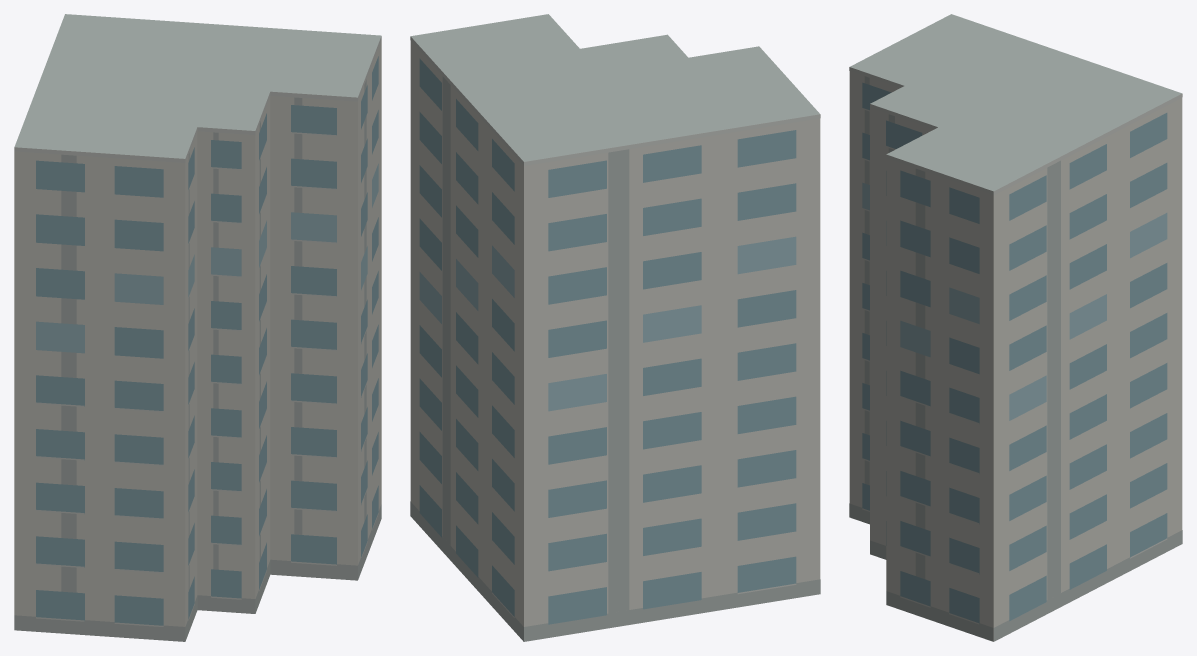
File: residential-7bc94868-e961-4bd1-a678-60fde20e6c0e.glb
The picture shows the model from 3 angles, left to right: view 1: azimuth 30°, elevation 25°; view 2: azimuth 150°, elevation 25°; view 3: azimuth 270°, elevation 25°; orthographic projection. The views are drawn at different scales.
Visible parts, largest first — view 1: residential-7bc94868-e961-4bd1-a678-60fde20e6c0e.tmp; view 2: residential-7bc94868-e961-4bd1-a678-60fde20e6c0e.tmp; view 3: residential-7bc94868-e961-4bd1-a678-60fde20e6c0e.tmp.
Boxes of the visible parts, box(x1,y1,x2,y2) form: residential-7bc94868-e961-4bd1-a678-60fde20e6c0e.tmp: box(14, 14, 381, 641); residential-7bc94868-e961-4bd1-a678-60fde20e6c0e.tmp: box(410, 14, 820, 641); residential-7bc94868-e961-4bd1-a678-60fde20e6c0e.tmp: box(849, 14, 1182, 641).
Size of the model in its own units: 23.66 by 28 by 18.77.
